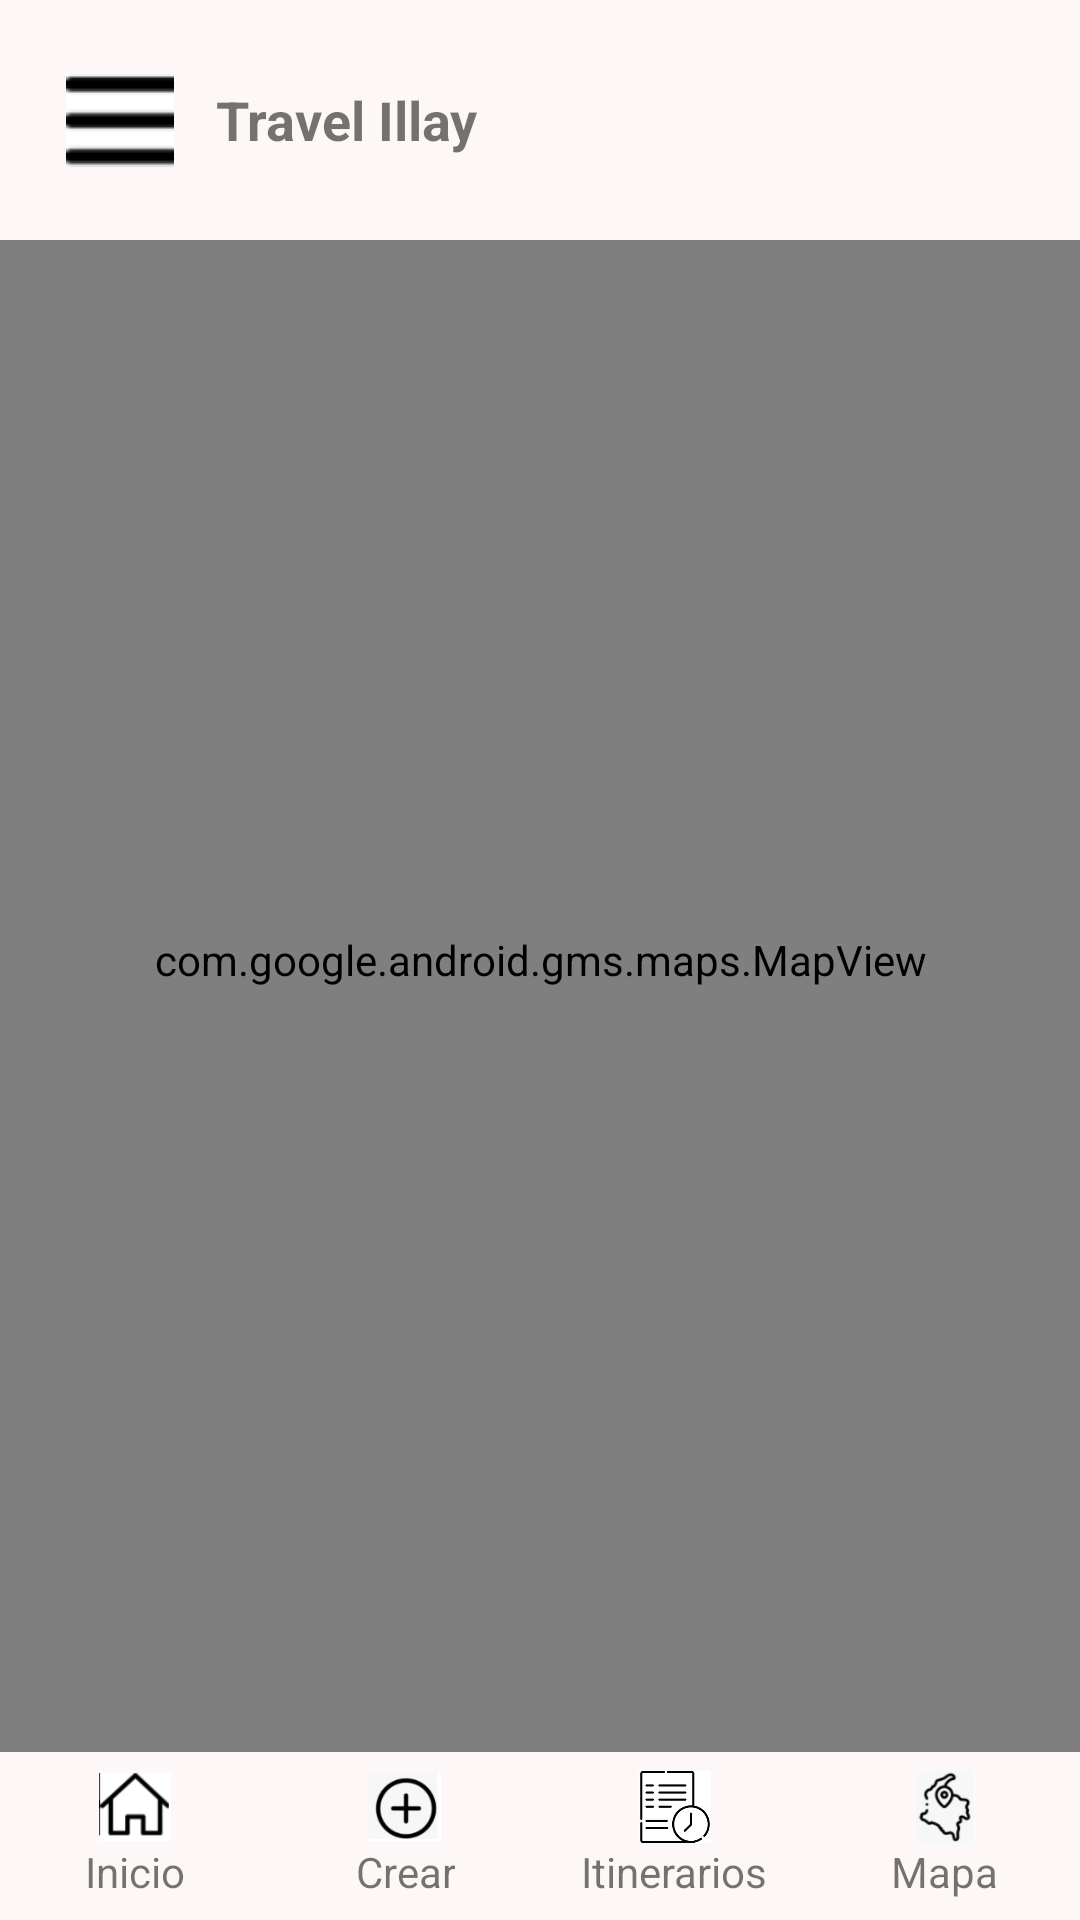

Icon bounding boxes for this 1080x1920 phone screenshot, format (x1, y1, x2, y2):
Menú principal: (66, 76, 174, 167)
